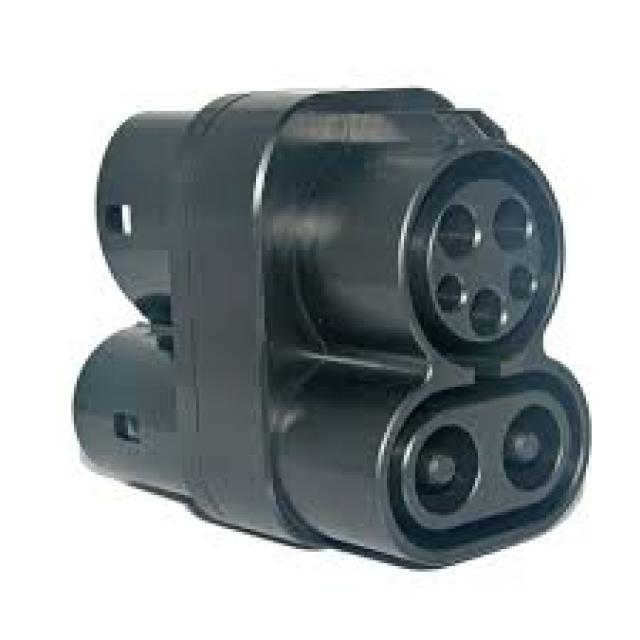CCS1: (392, 158, 598, 560)
